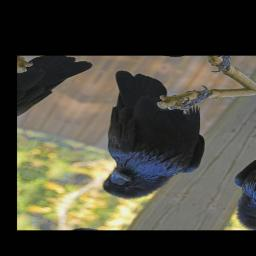Crow: (41, 66, 249, 211)
